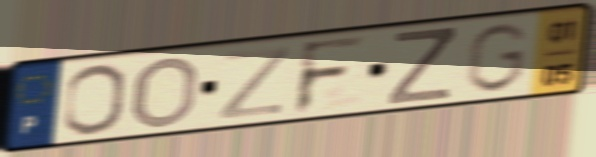F: (290, 32, 370, 117)
G: (461, 20, 533, 95)
O: (127, 54, 202, 131), (60, 60, 129, 137)
Z: (215, 43, 294, 123), (384, 25, 458, 108)
